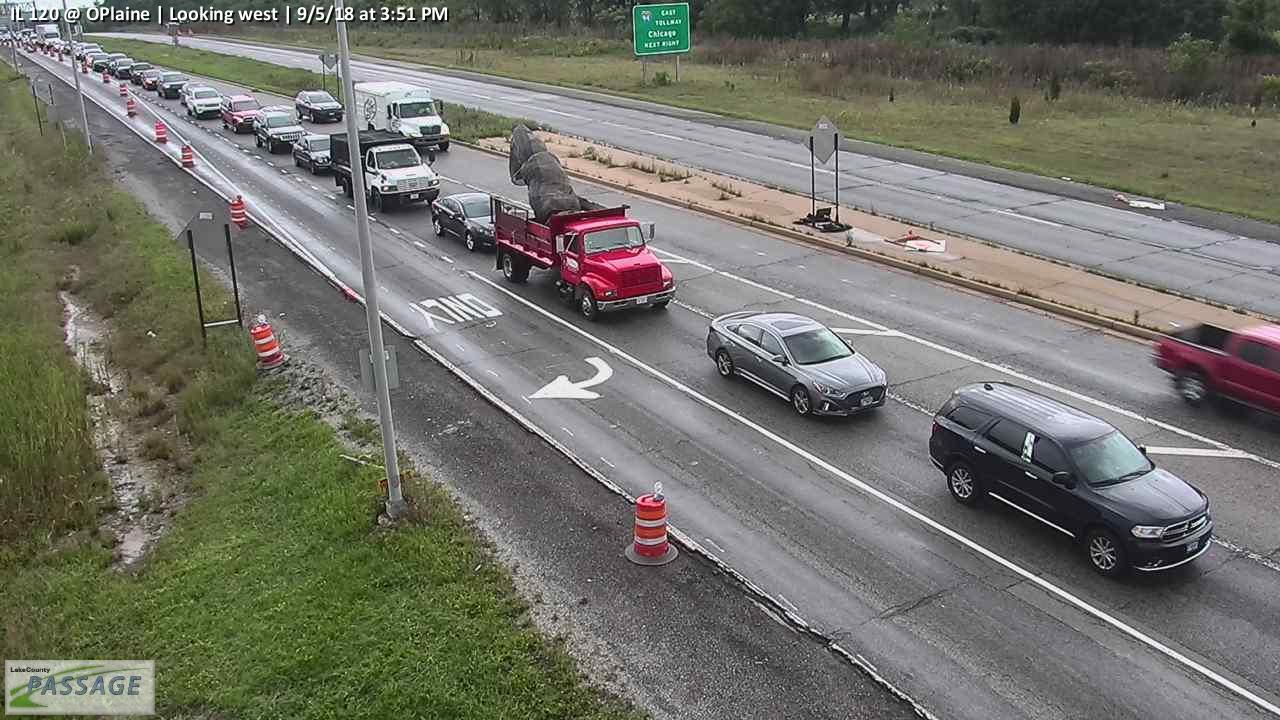SUV: (928, 384, 1213, 574), (252, 107, 307, 154), (295, 88, 342, 124), (220, 95, 261, 133), (184, 85, 222, 119), (155, 70, 189, 98), (127, 62, 155, 86), (113, 57, 135, 80), (79, 42, 104, 61)
Sedan: (705, 310, 888, 417), (429, 193, 510, 250), (291, 135, 336, 175), (140, 69, 163, 90), (91, 51, 110, 72)
Truck: (490, 198, 676, 319), (1151, 322, 1280, 413), (330, 130, 440, 212), (354, 79, 450, 152), (35, 23, 61, 48)
